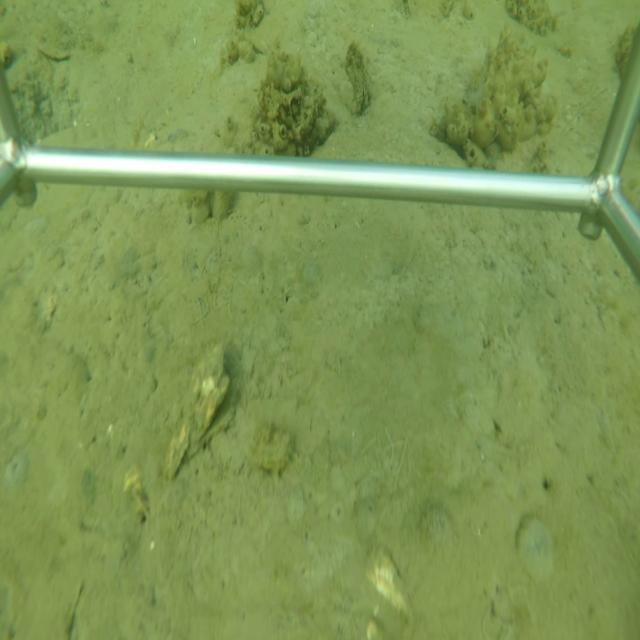Oyster-Closed: (342, 40, 369, 115)
Oyster-Open: (162, 339, 240, 480)
